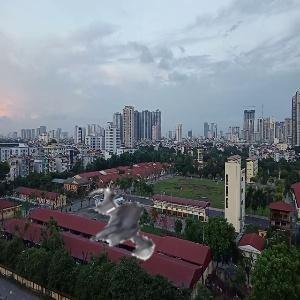drone: (86, 168, 187, 269)
